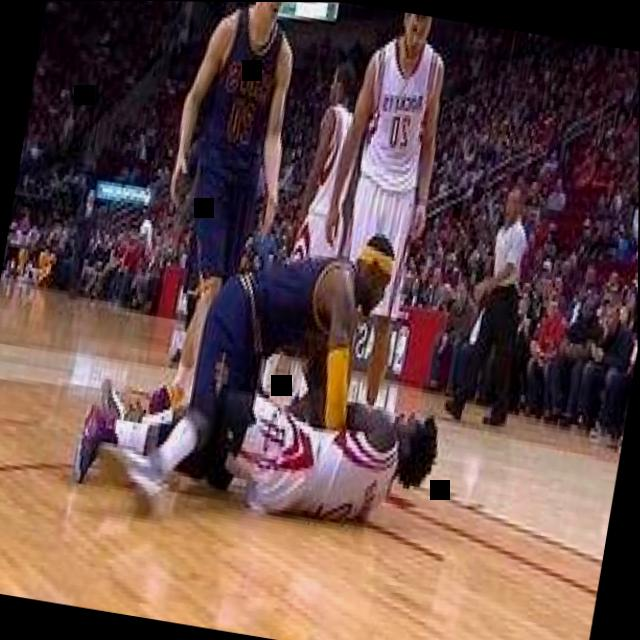Fall-Detected: (168, 193, 418, 421)
